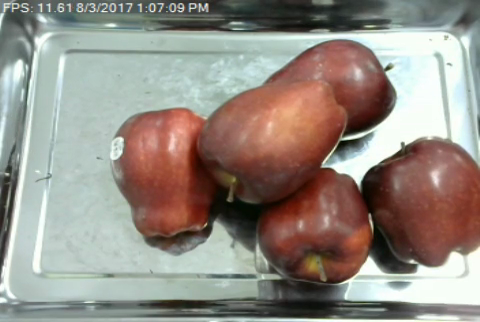Apple: (194, 78, 350, 208), (356, 135, 480, 272), (251, 163, 376, 289), (108, 107, 224, 242), (257, 37, 400, 142)
